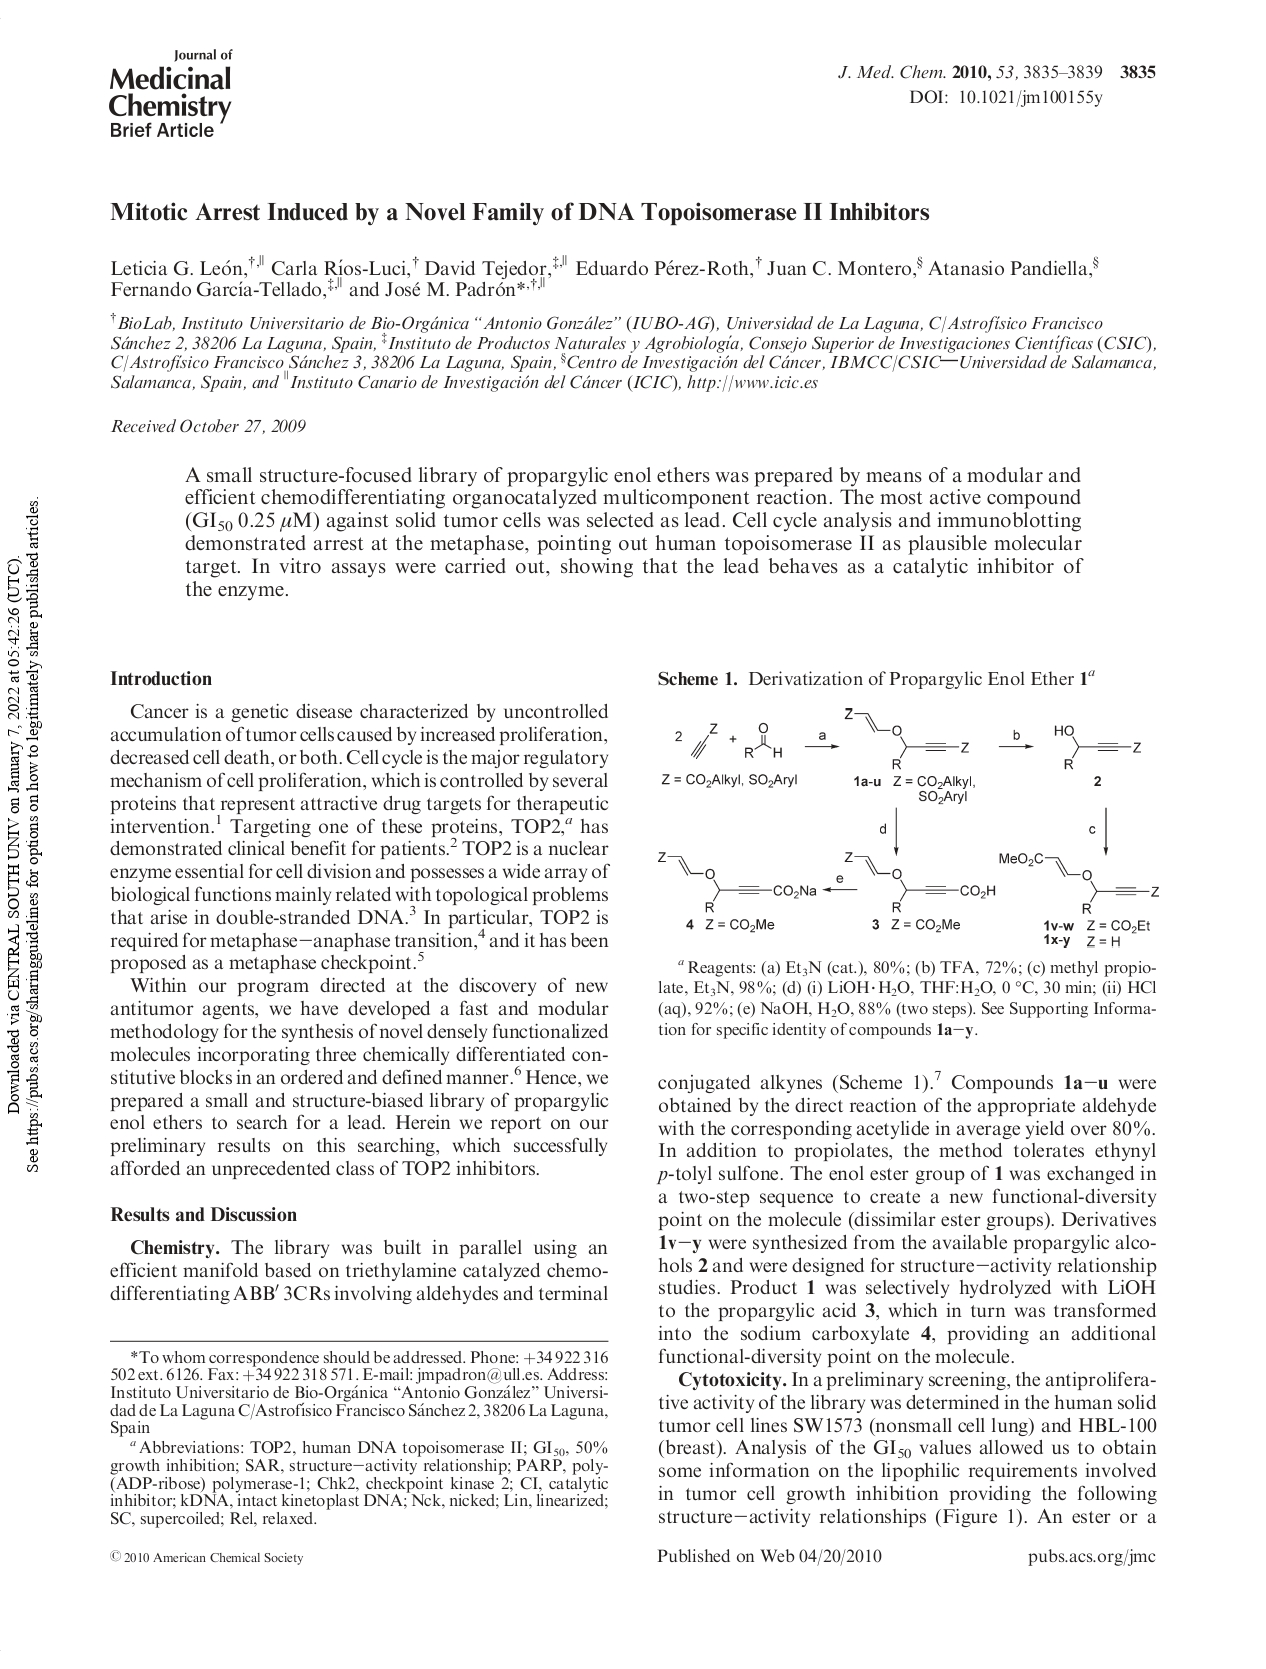exist_molecular: (646, 846, 827, 919), (996, 848, 1164, 912), (842, 848, 1001, 915), (835, 700, 971, 773), (1051, 722, 1148, 777), (739, 717, 790, 765)
